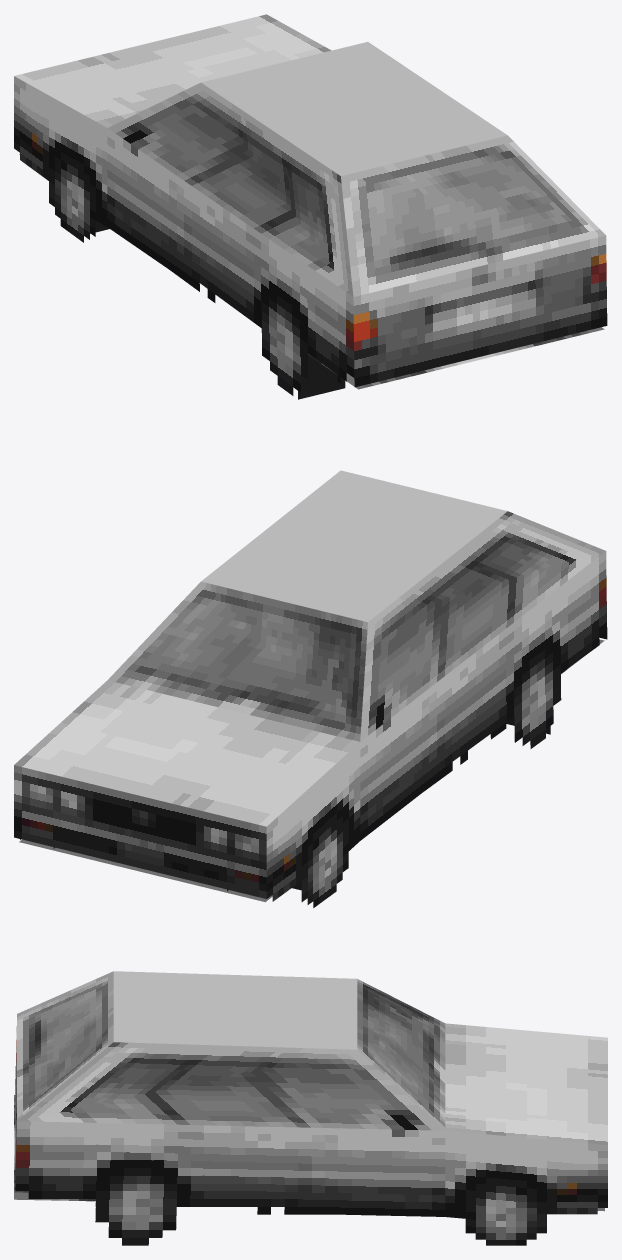
Rendered from car-wagon-plt3.glb.
3 renders of one model, top to bottom at view 1: azimuth 30°, elevation 25°; view 2: azimuth 150°, elevation 25°; view 3: azimuth 270°, elevation 25°, orthographic. The views are drawn at different scales.
Visible parts, largest first — view 1: car-wagon-plt3; view 2: car-wagon-plt3; view 3: car-wagon-plt3.
Part boxes in pixels (x1=…): car-wagon-plt3: x1=14, y1=14, x2=607, y2=399; car-wagon-plt3: x1=14, y1=470, x2=607, y2=907; car-wagon-plt3: x1=14, y1=971, x2=607, y2=1245.
Size of the model in its own units: 1.89 by 1.52 by 4.42.
Materials: 13 (13 with a texture image).
